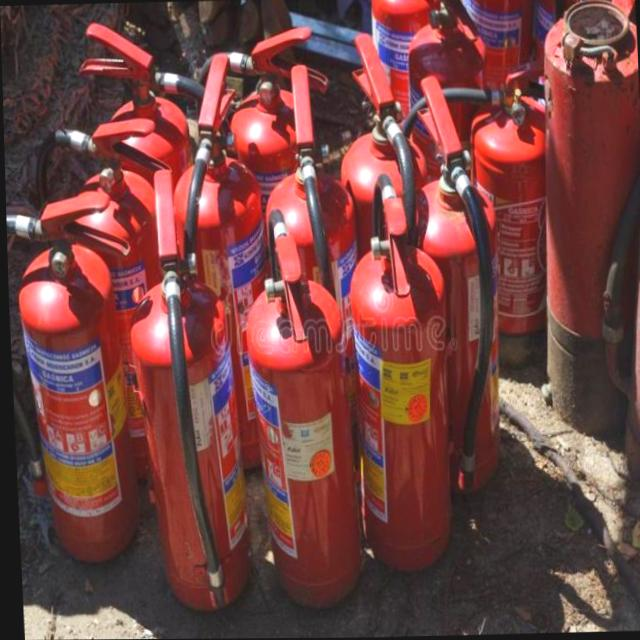FireExtinguisher: (69, 18, 230, 454), (27, 110, 190, 514), (376, 53, 565, 384), (119, 164, 253, 619), (187, 19, 345, 386), (231, 203, 369, 619), (155, 48, 280, 487), (4, 183, 142, 580), (389, 71, 511, 517), (253, 60, 373, 512), (326, 33, 444, 479), (339, 170, 459, 580), (395, 0, 496, 286), (440, 0, 544, 198), (364, 0, 448, 224)
